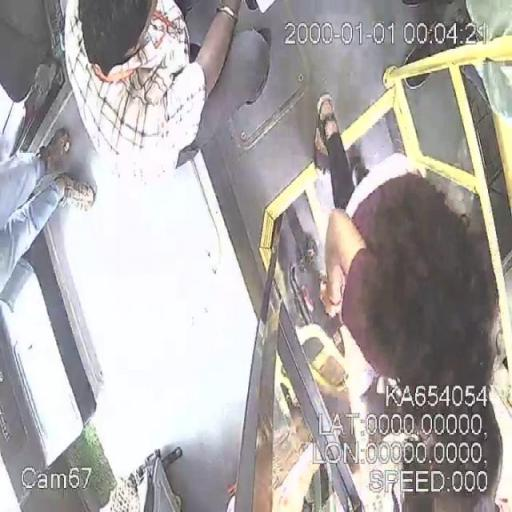persona: (312, 92, 505, 510), (61, 0, 243, 184), (1, 124, 96, 290)
